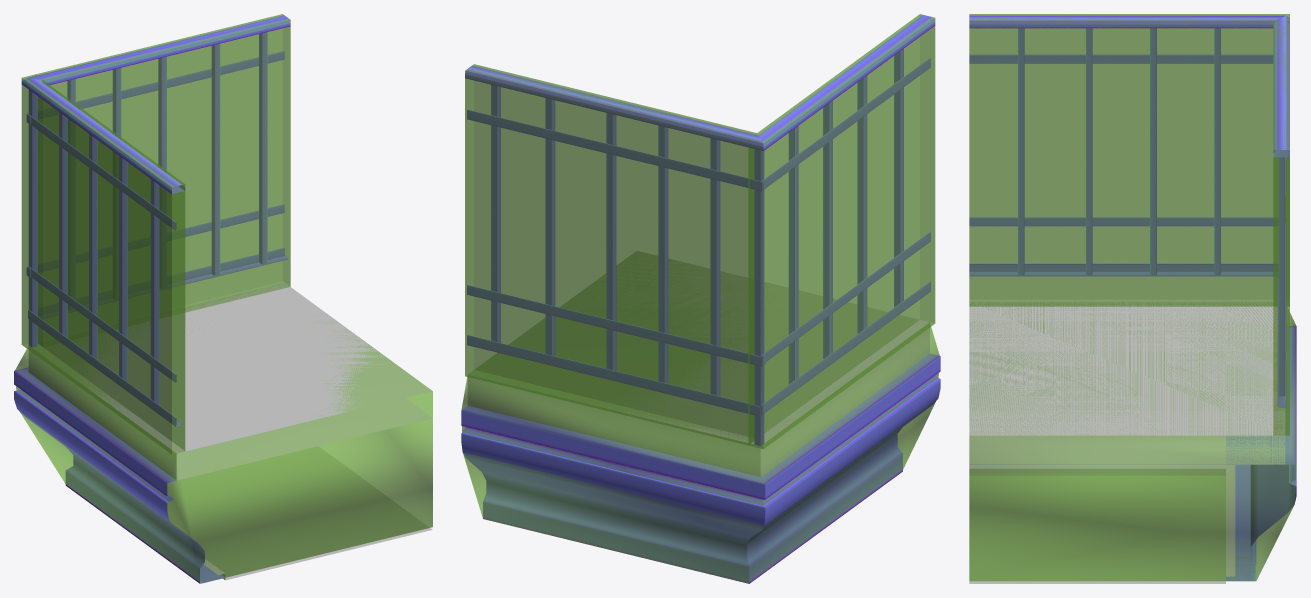
The model's file is F_md_Balcony_L_90cnr_02_m.fbx.
3 renders of one model, left to right at view 1: azimuth 30°, elevation 25°; view 2: azimuth 150°, elevation 25°; view 3: azimuth 270°, elevation 25°, orthographic. The views are drawn at different scales.
Parts seen in each view (by area): view 1: F_md_Balcony_L_90cnr_02_m_LOD0, F_md_Balcony_L_90cnr_02_m_col_03, F_md_Balcony_L_90cnr_02_m_col_01, F_md_Balcony_L_90cnr_02_m_col_02; view 2: F_md_Balcony_L_90cnr_02_m_LOD0, F_md_Balcony_L_90cnr_02_m_col_03, F_md_Balcony_L_90cnr_02_m_col_02, F_md_Balcony_L_90cnr_02_m_col_01; view 3: F_md_Balcony_L_90cnr_02_m_LOD0, F_md_Balcony_L_90cnr_02_m_col_02, F_md_Balcony_L_90cnr_02_m_col_01, F_md_Balcony_L_90cnr_02_m_col_03.
Boxes of the visible parts, x1,y1,x2,y2 form: F_md_Balcony_L_90cnr_02_m_LOD0: (14, 15, 432, 583); F_md_Balcony_L_90cnr_02_m_col_03: (35, 14, 290, 346); F_md_Balcony_L_90cnr_02_m_col_01: (15, 314, 432, 583); F_md_Balcony_L_90cnr_02_m_col_02: (21, 74, 185, 454); F_md_Balcony_L_90cnr_02_m_LOD0: (461, 15, 940, 583); F_md_Balcony_L_90cnr_02_m_col_03: (465, 64, 756, 445); F_md_Balcony_L_90cnr_02_m_col_02: (748, 14, 935, 448); F_md_Balcony_L_90cnr_02_m_col_01: (461, 325, 939, 583); F_md_Balcony_L_90cnr_02_m_LOD0: (969, 15, 1296, 583); F_md_Balcony_L_90cnr_02_m_col_02: (969, 14, 1289, 306); F_md_Balcony_L_90cnr_02_m_col_01: (969, 302, 1296, 581); F_md_Balcony_L_90cnr_02_m_col_03: (1273, 21, 1289, 435).
Size of what is drawn, in the model's own units: 102 by 149 by 102.
